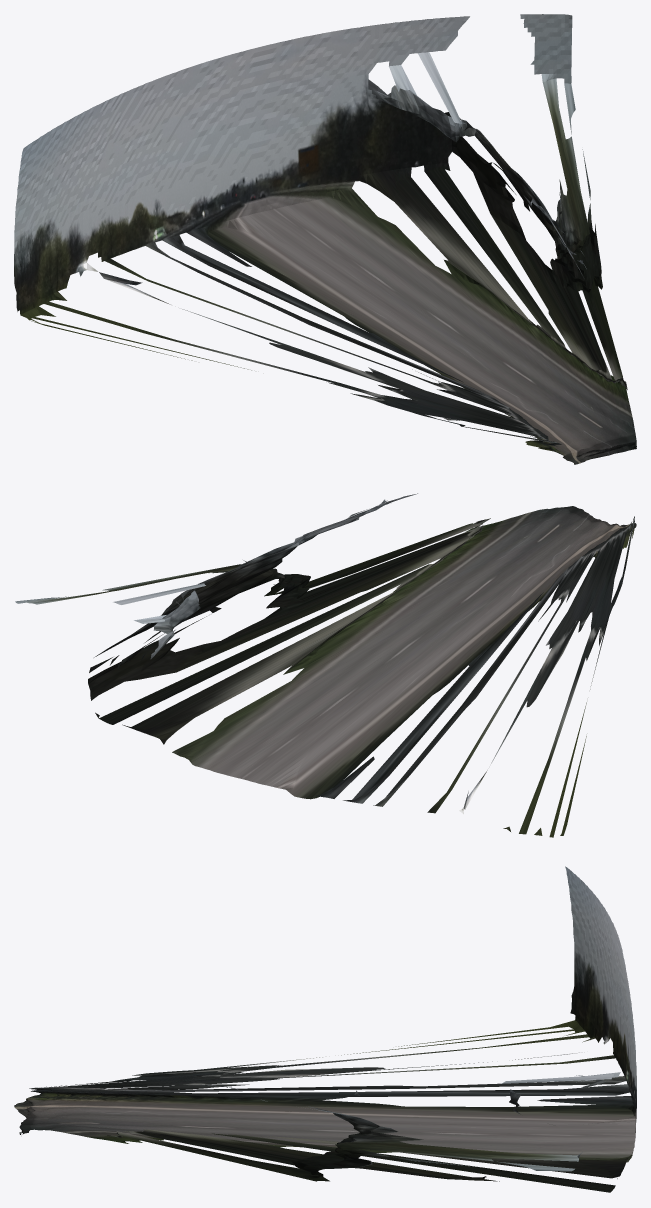
The picture shows the model from 3 angles, top to bottom: view 1: azimuth 30°, elevation 25°; view 2: azimuth 150°, elevation 25°; view 3: azimuth 270°, elevation 25°; orthographic projection. The views are drawn at different scales.
Parts seen in each view (by area): view 1: defaultobject; view 2: defaultobject; view 3: defaultobject.
Part boxes in pixels (left/top/right/bottom): defaultobject: left=14, top=14, right=636, bottom=464; defaultobject: left=15, top=493, right=636, bottom=837; defaultobject: left=14, top=866, right=636, bottom=1192.
Size of the model in its own units: 41.09 by 13.24 by 44.67.
1 material, 1 textured.
